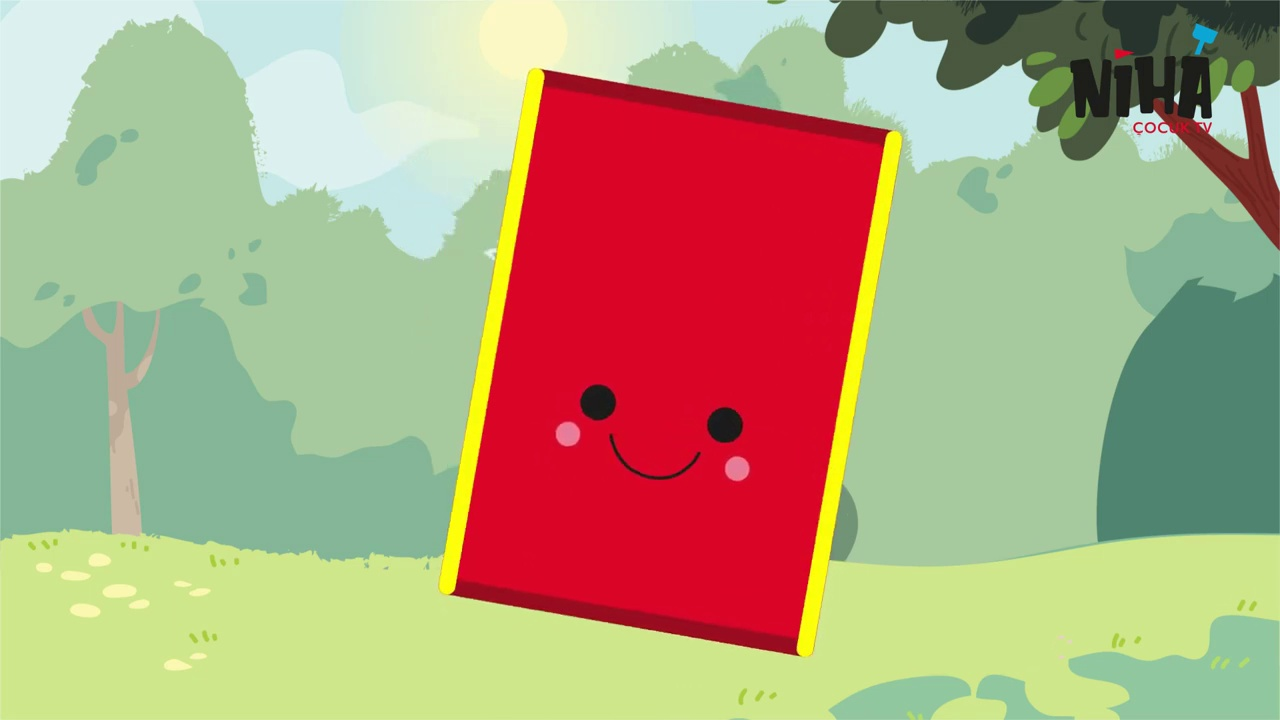dikdortgen: (444, 68, 909, 663)
